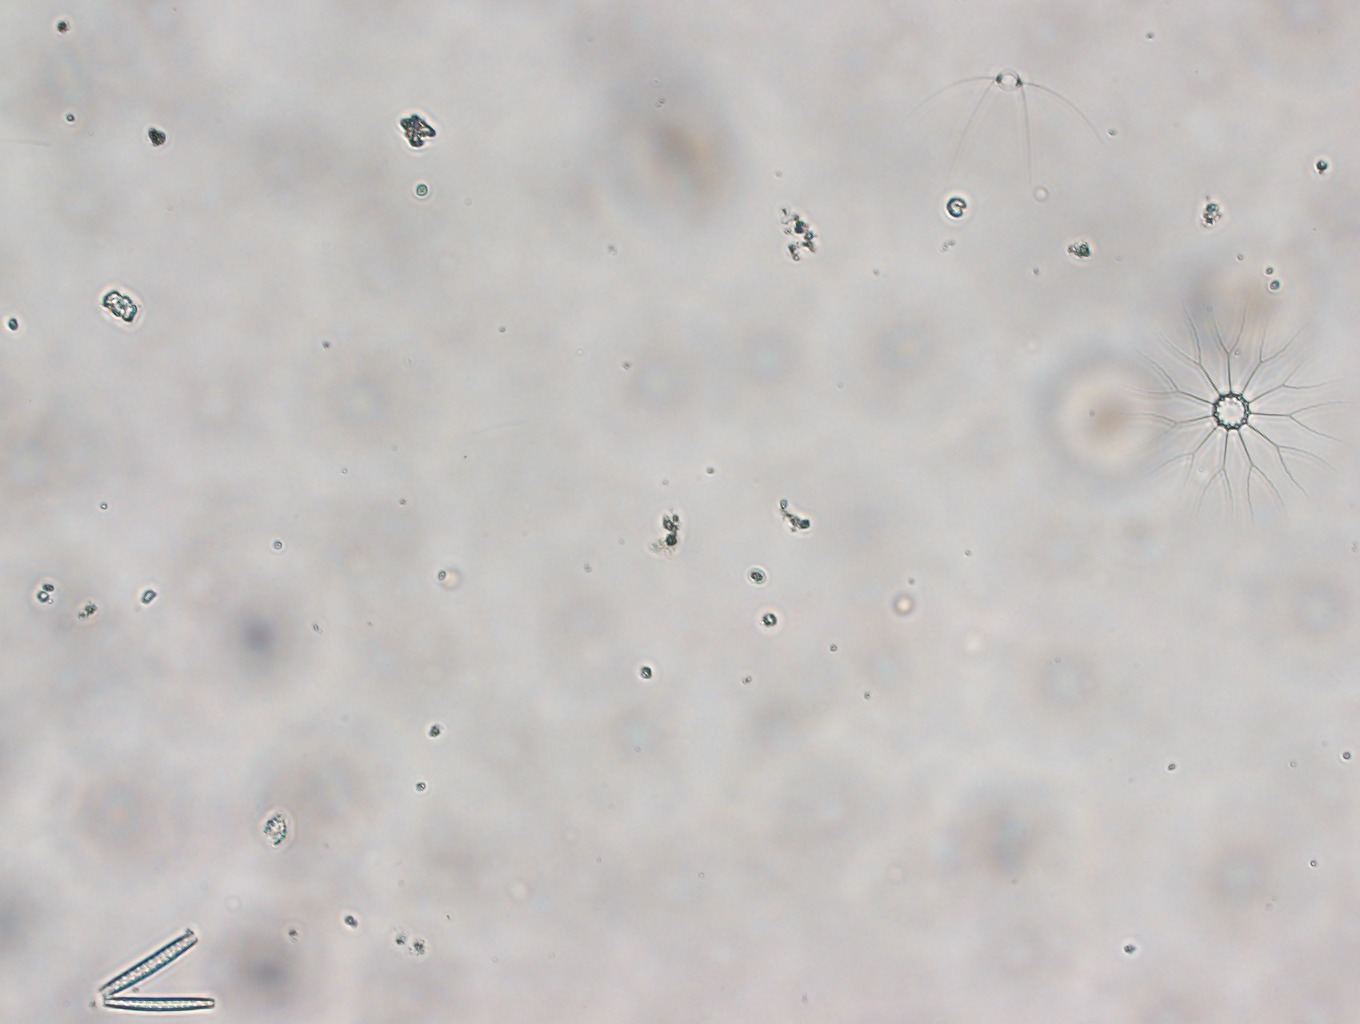bacteriastrum: (1128, 300, 1351, 527)
chaetoceros: (893, 63, 1110, 180)
thalassionema nitzschioides: (89, 928, 223, 1019)
